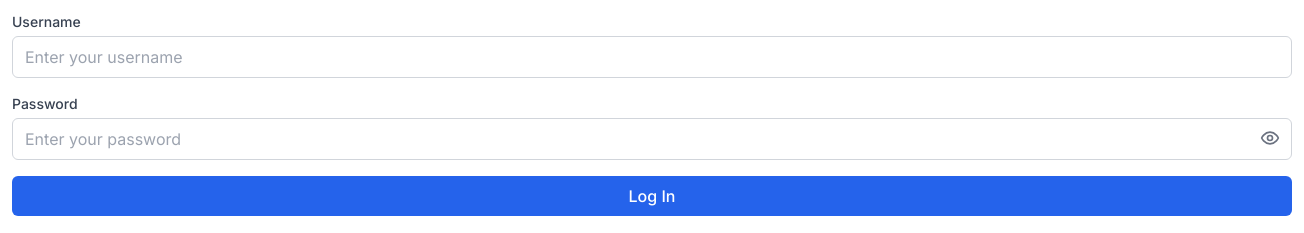
Test: LoginForm › should disable submit button while loading
Type "testuser" into the field labelled "Username" at (652, 57), box [12, 36, 1292, 78]
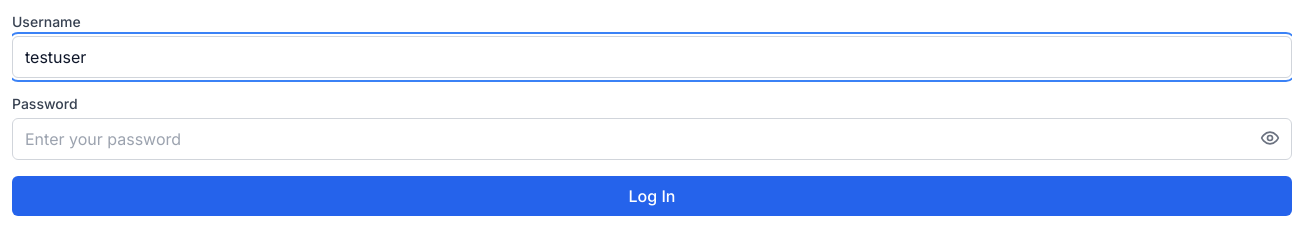
Type "password123" into the password field labelled "Password" at (652, 139), box [12, 118, 1292, 160]
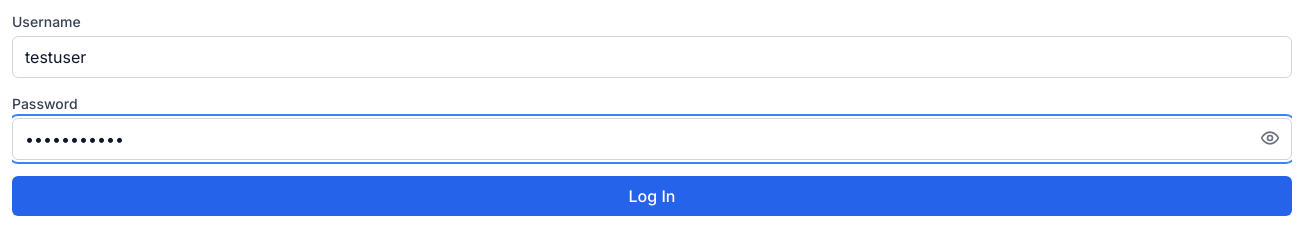
Click the button "Log In" at (652, 196), box [12, 176, 1292, 216]
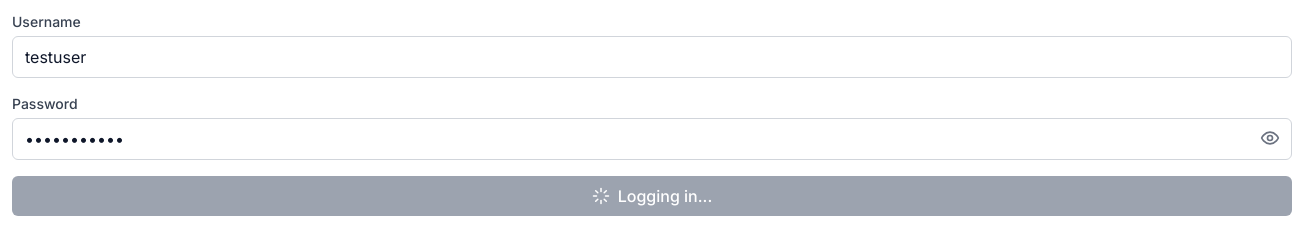
expect the button named "log in" is disabled: met, box [12, 176, 1292, 216]
